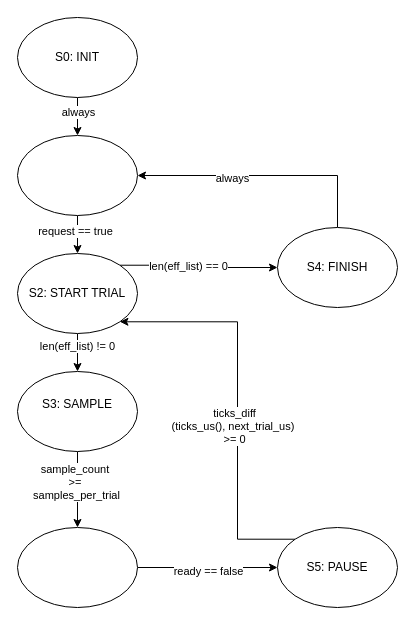
Some shapes in this 415 by 625 pixel diagram are drawn without their labels. The centre of each missing label's shape, as x and y in pixels:
"S1: WAIT" belongs at (x=77, y=175).
"S6: PRINT" belongs at (x=77, y=567).
